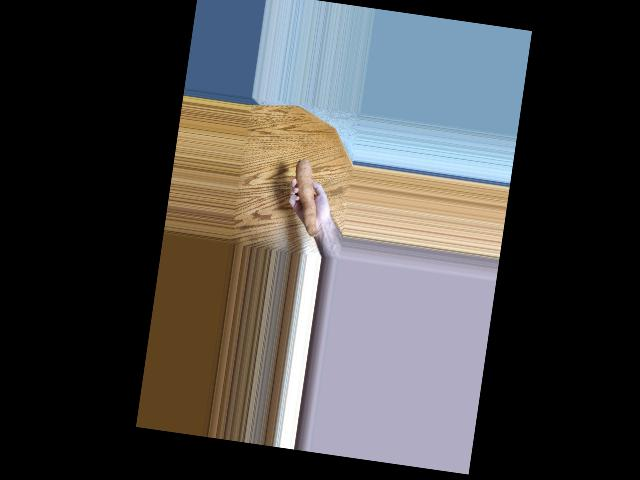sweet_potato: (285, 161, 323, 232)
